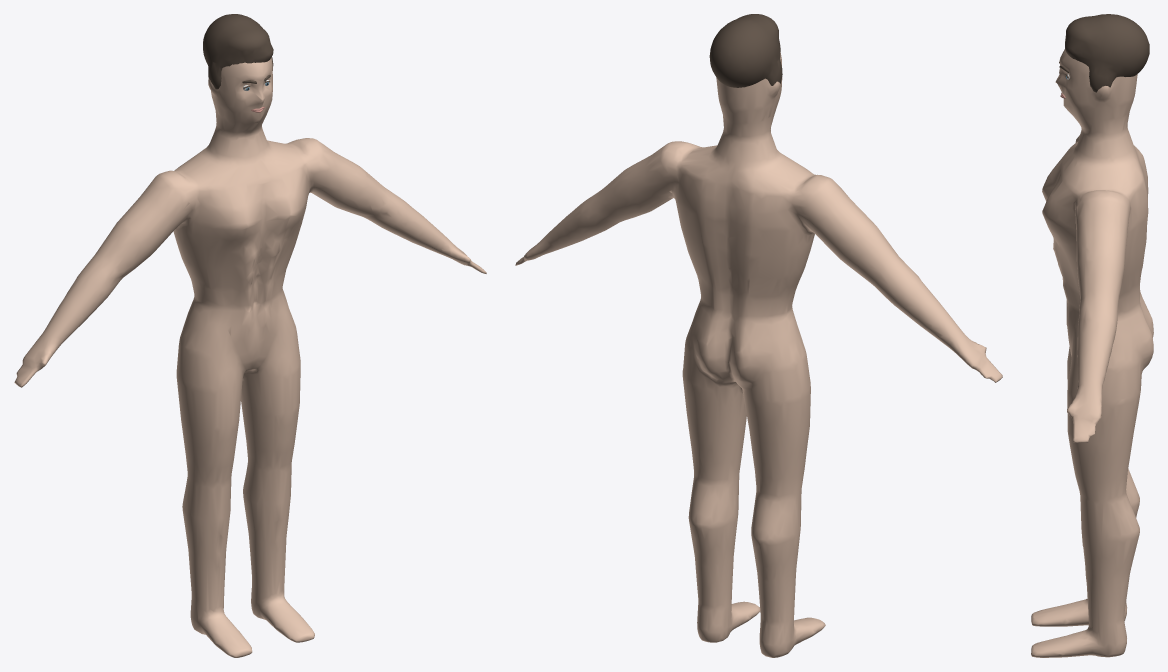
File: Char_Male_Base.fbx
The picture shows the model from 3 angles, left to right: view 1: azimuth 30°, elevation 25°; view 2: azimuth 150°, elevation 25°; view 3: azimuth 270°, elevation 25°; orthographic projection. The views are drawn at different scales.
Visible parts, largest first — view 1: Char_Male_Base; view 2: Char_Male_Base; view 3: Char_Male_Base.
Part boxes in pixels (x1,y1,x2,y2): Char_Male_Base: [14, 14, 486, 657]; Char_Male_Base: [515, 14, 1002, 657]; Char_Male_Base: [1031, 14, 1153, 657].
Bounding box in the file's own units: 1.48 × 0.3285 × 1.84.
